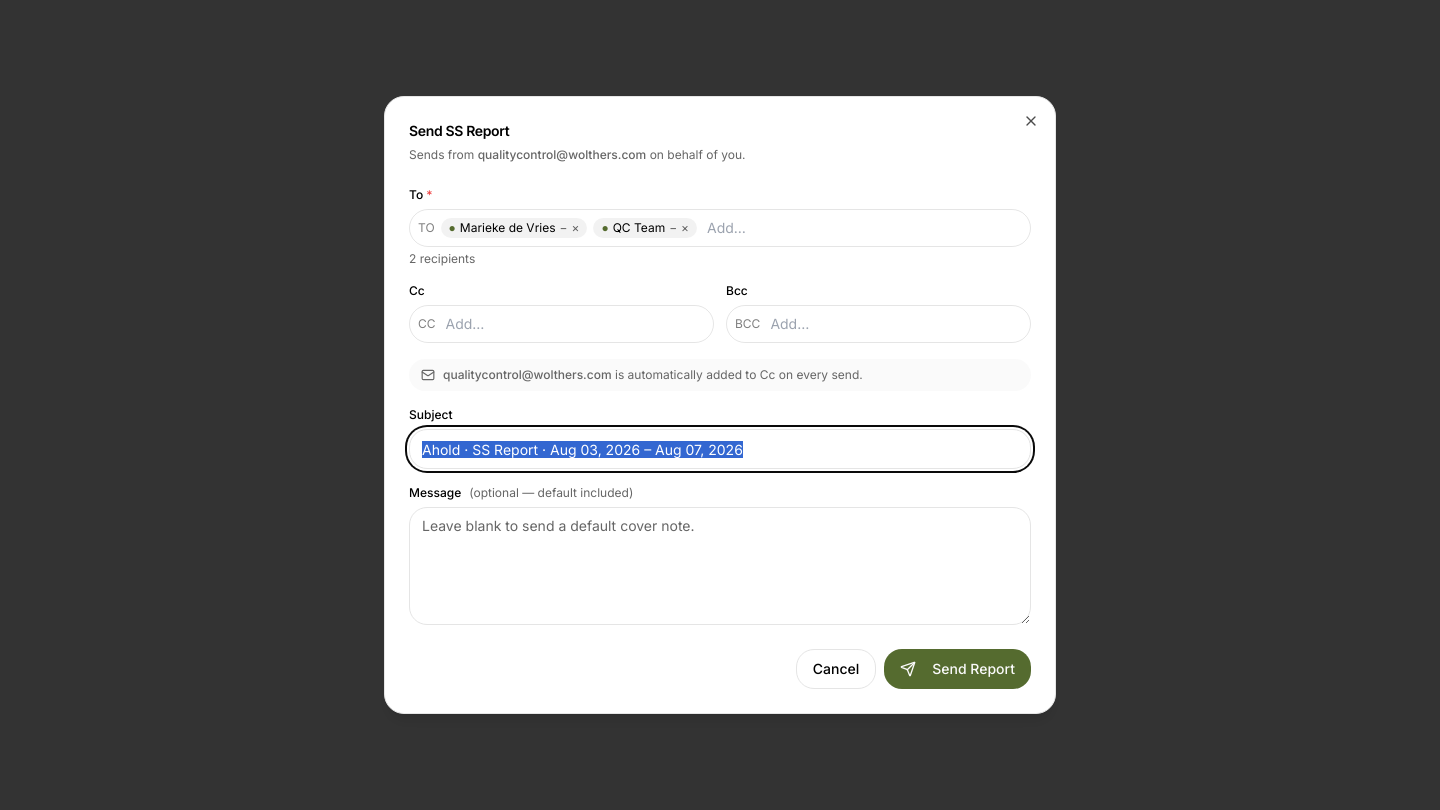
Test: SendReportModal save prompt › disables Send when an address is malformed
Expected: the element titled "marieke@ahold.nl" is shown, top-left (441, 218), bottom-right (587, 238)
Type "not-an-email" into the field with placeholder "Add…" next to "QC Team" at (863, 228), box top-left (703, 216), bottom-right (1022, 240)
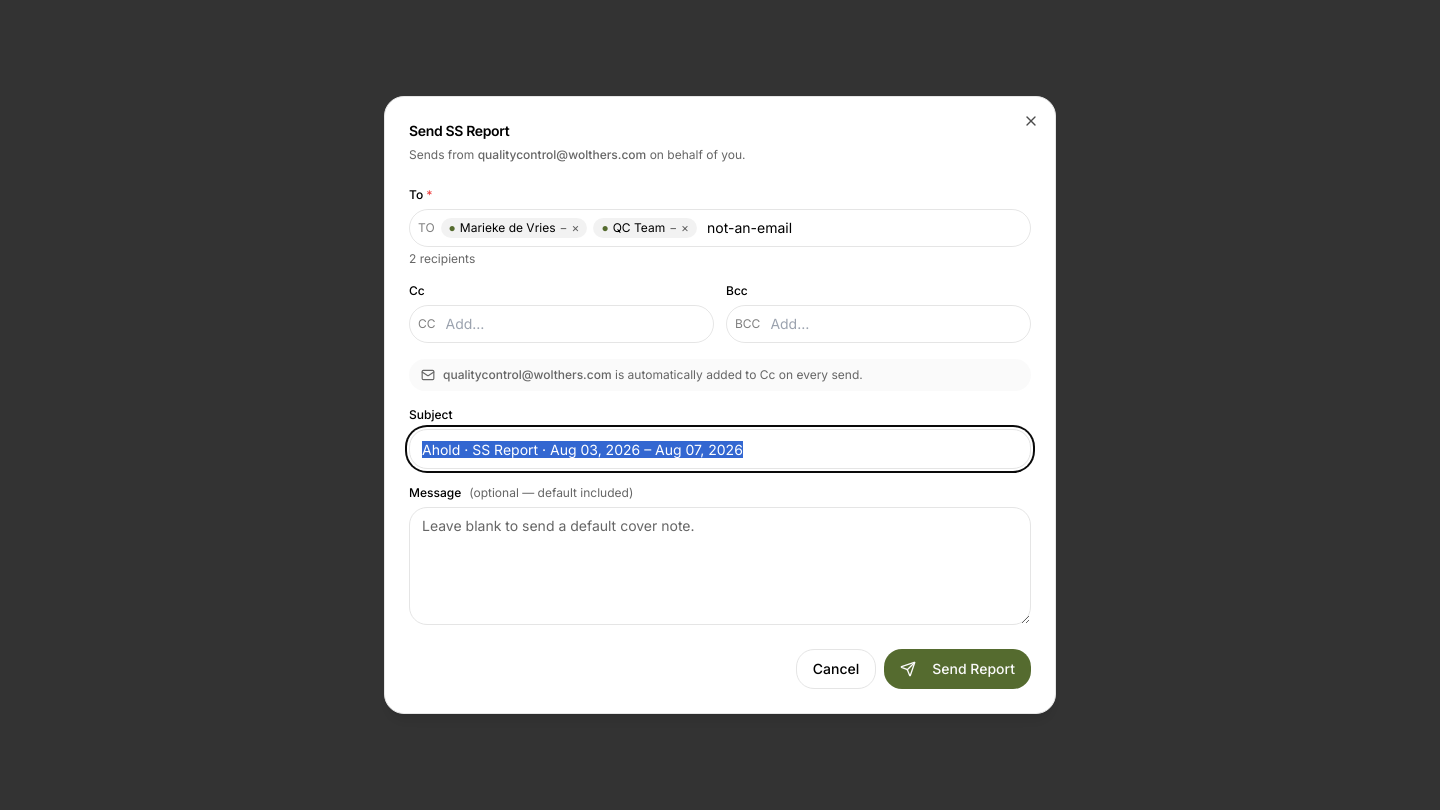
Press Enter in the field with placeholder "Add…" next to "QC Team", box top-left (703, 216), bottom-right (1022, 240)
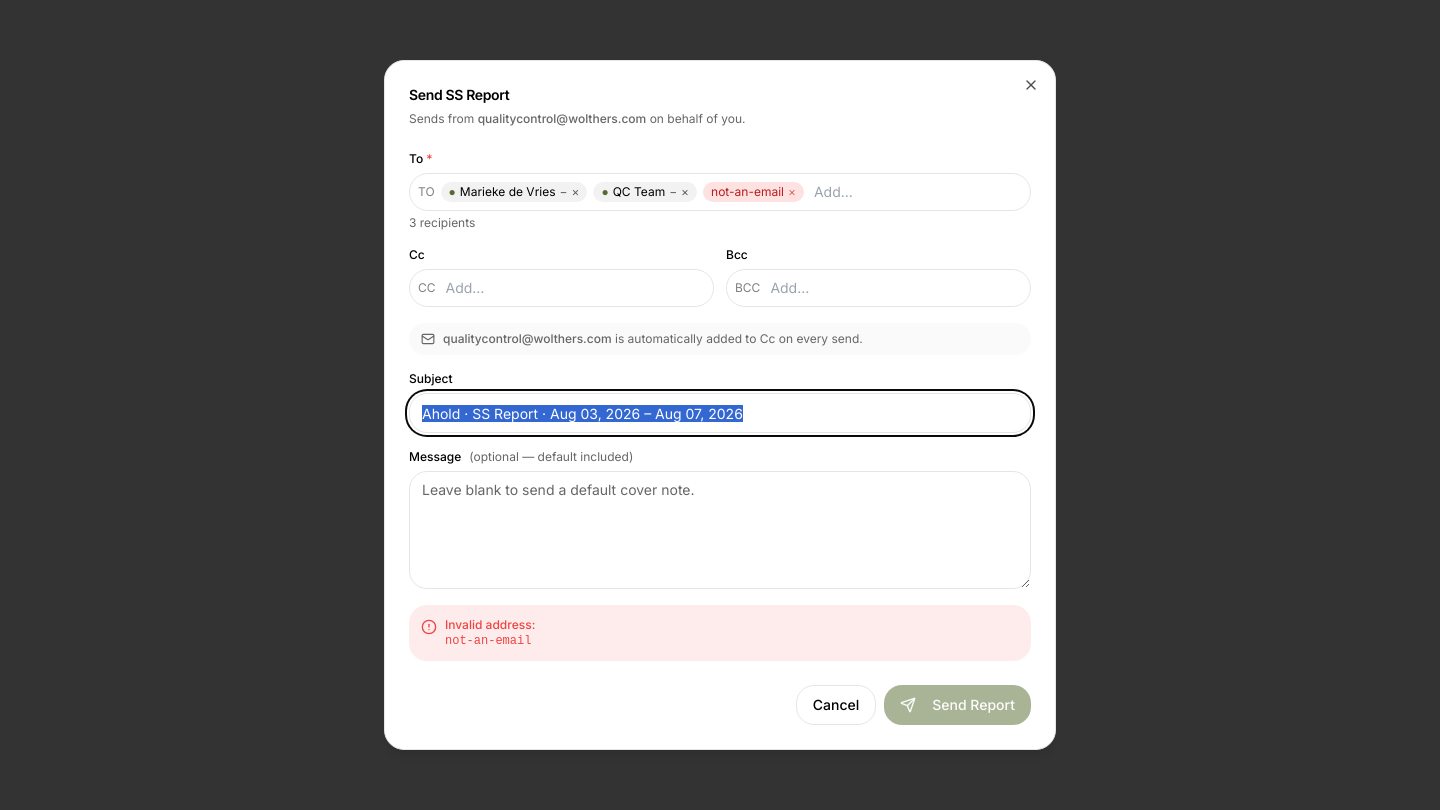
Now the button "Send Report" is disabled, box top-left (884, 685), bottom-right (1031, 725)
